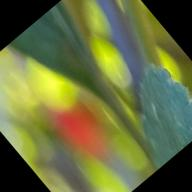Apples: (44, 86, 114, 160)
